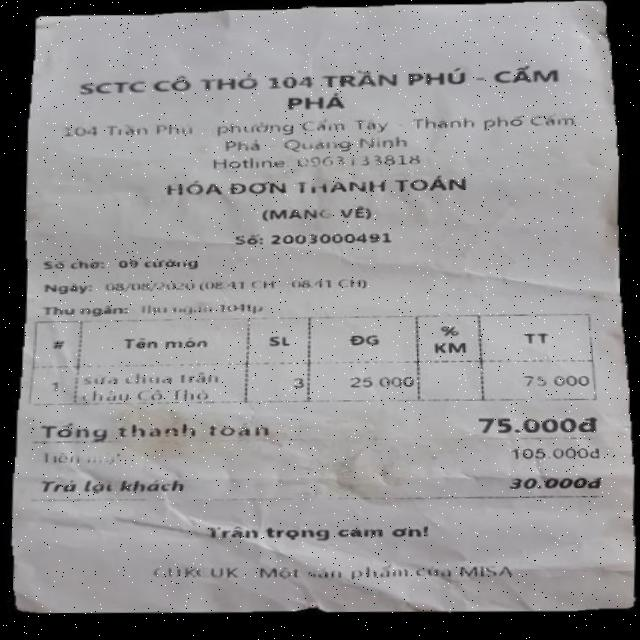Date: (98, 276, 197, 295)
Store_Name: (65, 60, 576, 113)
amount_number: (472, 412, 580, 437)
label_total: (36, 415, 274, 442)
